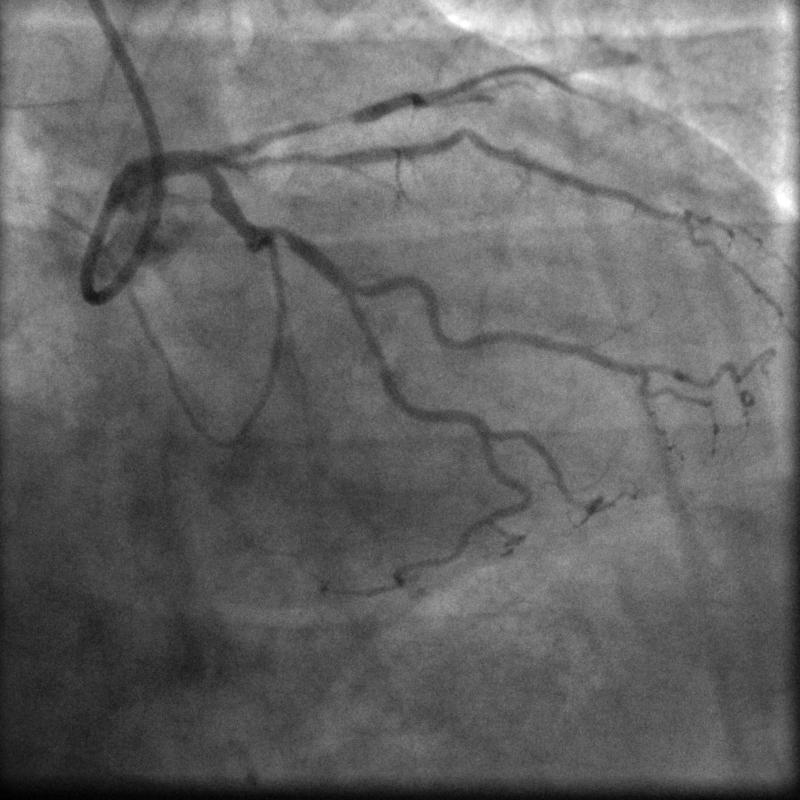Stenosis: (266, 220, 292, 247)
